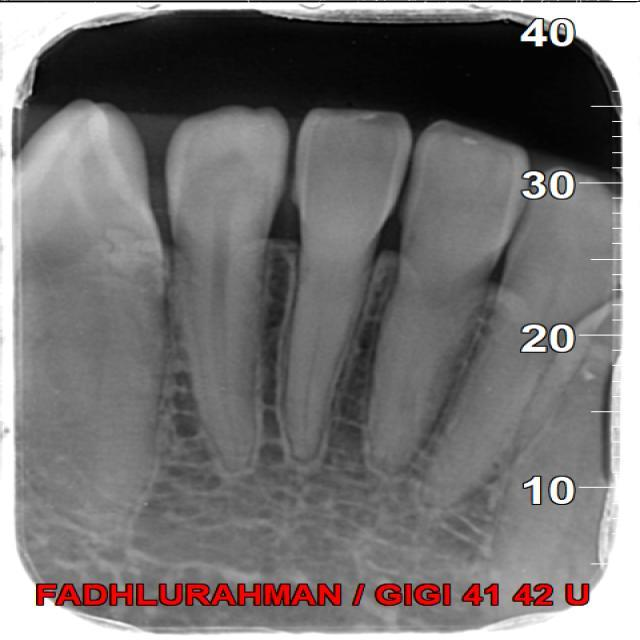individual-tooth-8tto: (362, 126, 523, 464), (164, 108, 300, 477), (283, 104, 422, 448)
